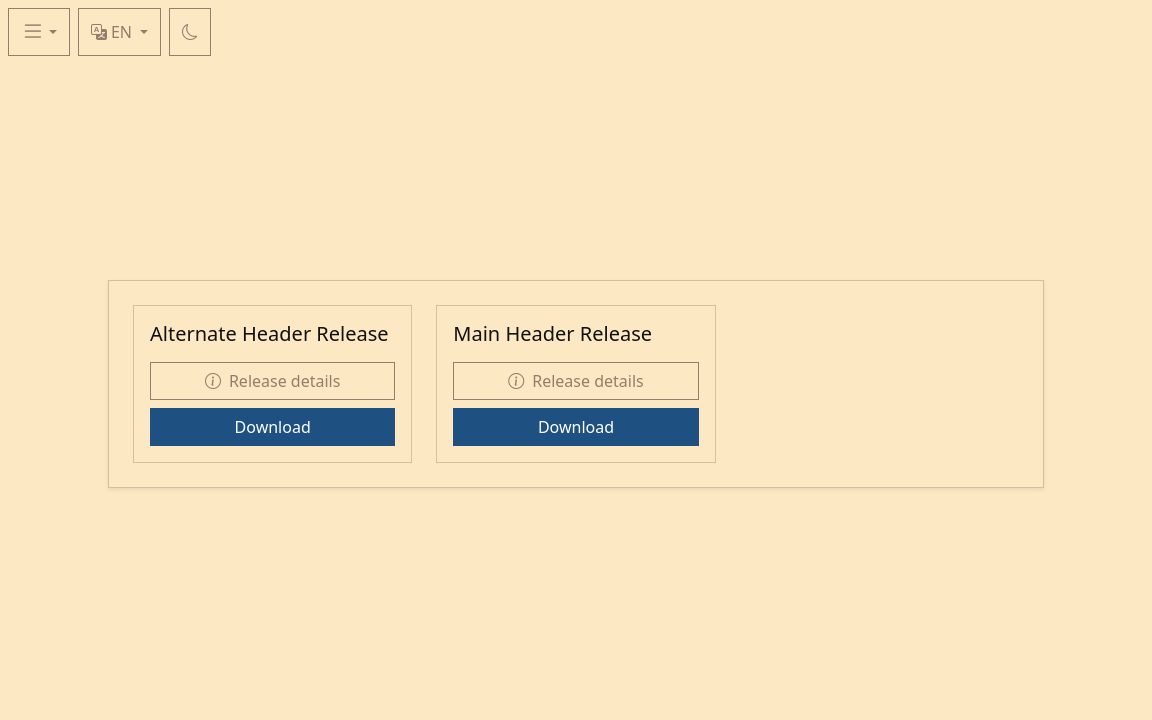
Test: Home › loads assigned releases and shows release information and downloads
Expected: the heading "Main Header Release" is shown, [453,320,652,347]
Expected: the heading "Alternate Header Release" is shown, [150,322,395,346]
Click the button with aria-label "Release details: Main Header Release".
click(576, 381)  # box [453,362,699,400]
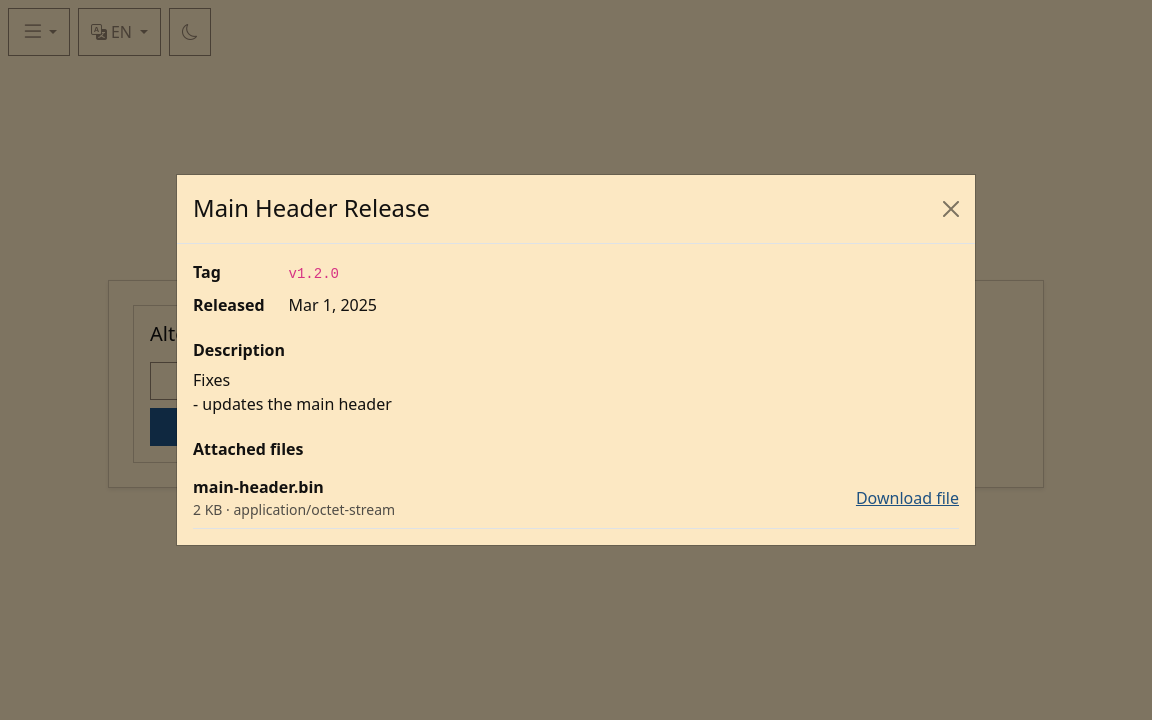
Result: the text "Fixes - updates the main header" is shown at [193,369,392,415]
Result: the text "v1.2.0" is shown at [289,266,339,282]
Result: the text "main-header.bin" is shown at [193,476,324,498]
